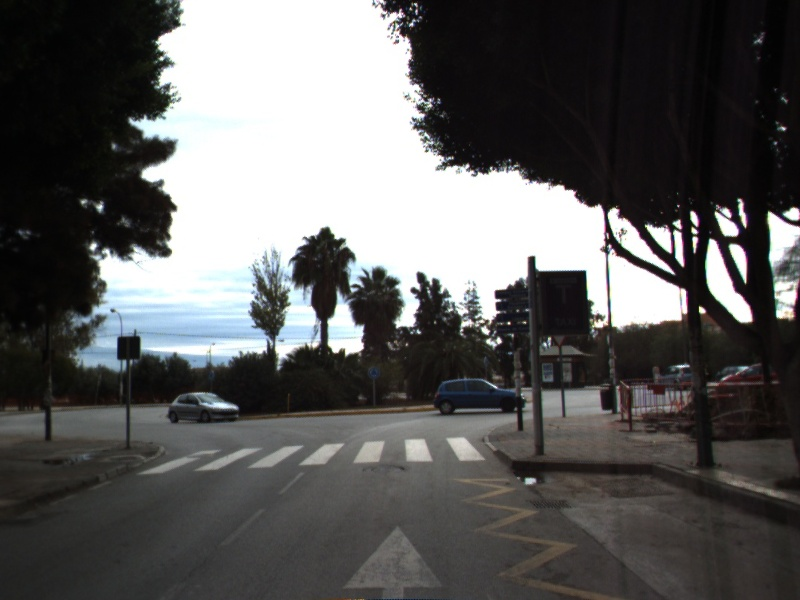STRAIGHT: (339, 521, 448, 600)
